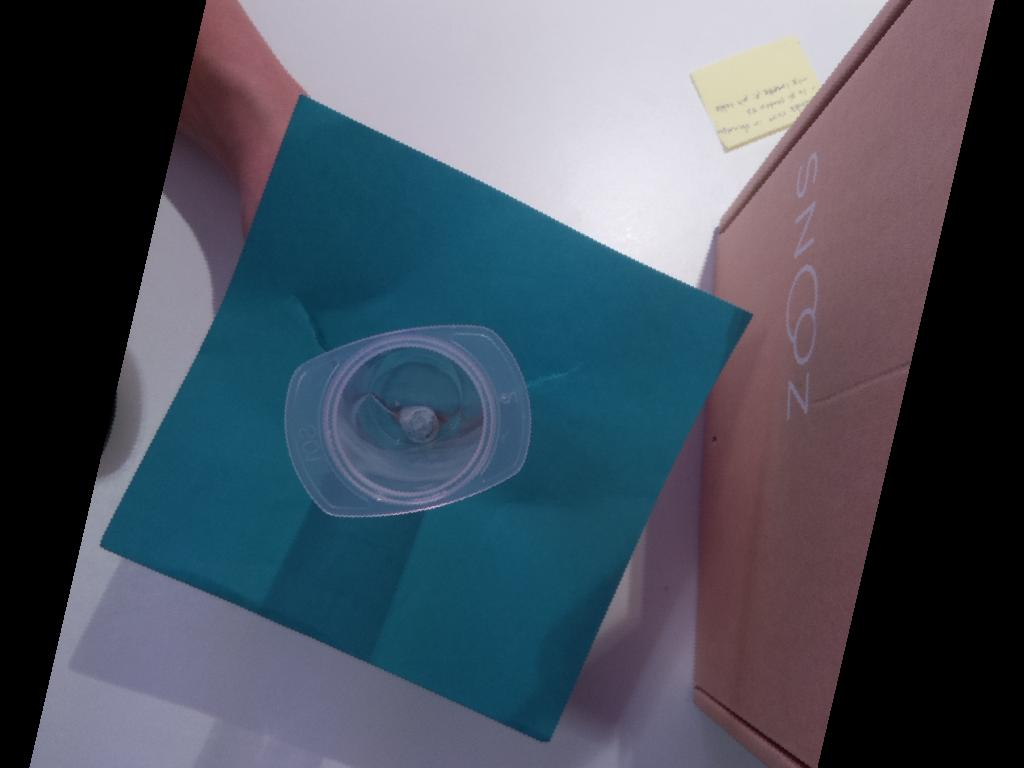clean: (279, 323, 539, 518)
